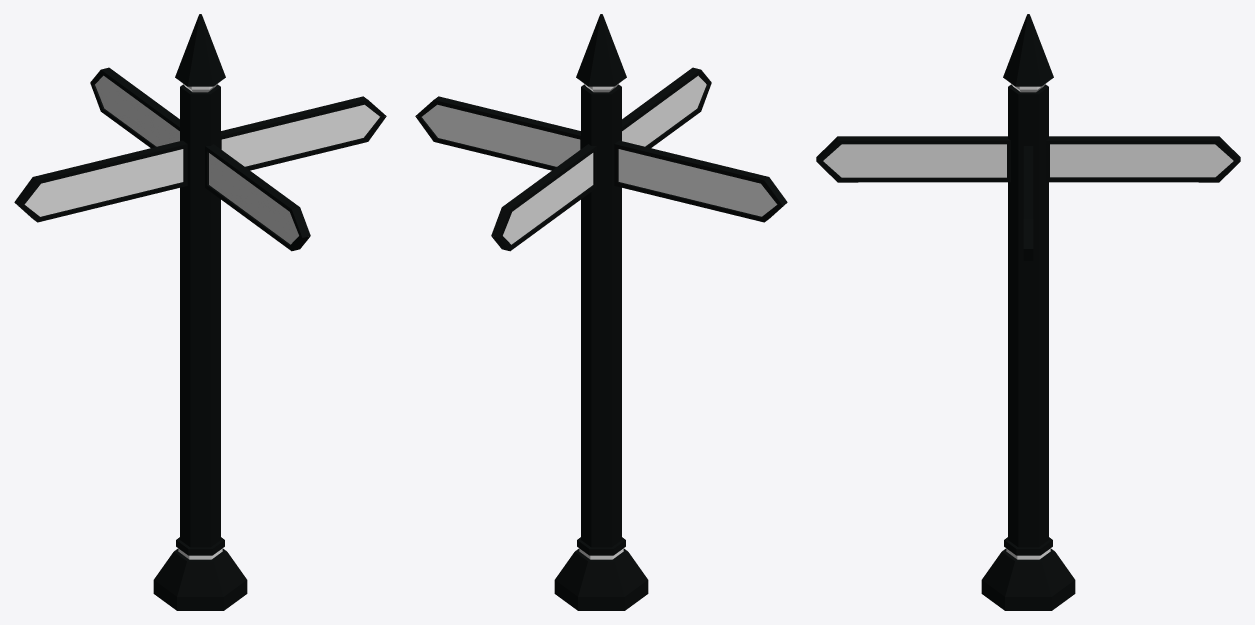
Rendered from LightPost.fbx.
The picture shows the model from 3 angles, left to right: view 1: azimuth 30°, elevation 25°; view 2: azimuth 150°, elevation 25°; view 3: azimuth 270°, elevation 25°; orthographic projection.
Parts seen in each view (by area): view 1: Cylinder, Cube.003, Cube.001, Cube.002, Cube.004; view 2: Cylinder, Cube.003, Cube.001, Cube.004, Cube.002; view 3: Cylinder, Cube.002, Cube.004, Cube.001.
Boxes of the visible parts, x1=… form: Cylinder: x1=153, y1=14, x2=247, y2=610; Cube.003: x1=14, y1=140, x2=187, y2=222; Cube.001: x1=221, y1=96, x2=386, y2=170; Cube.002: x1=205, y1=144, x2=310, y2=251; Cube.004: x1=90, y1=67, x2=179, y2=147; Cylinder: x1=554, y1=14, x2=648, y2=610; Cube.003: x1=614, y1=140, x2=787, y2=222; Cube.001: x1=415, y1=96, x2=580, y2=170; Cube.004: x1=491, y1=144, x2=596, y2=251; Cube.002: x1=622, y1=67, x2=711, y2=147; Cylinder: x1=981, y1=14, x2=1075, y2=610; Cube.002: x1=816, y1=136, x2=1010, y2=182; Cube.004: x1=1046, y1=136, x2=1240, y2=182; Cube.001: x1=1023, y1=146, x2=1033, y2=260.
Size of the model in its own units: 908 by 1368 by 908.
